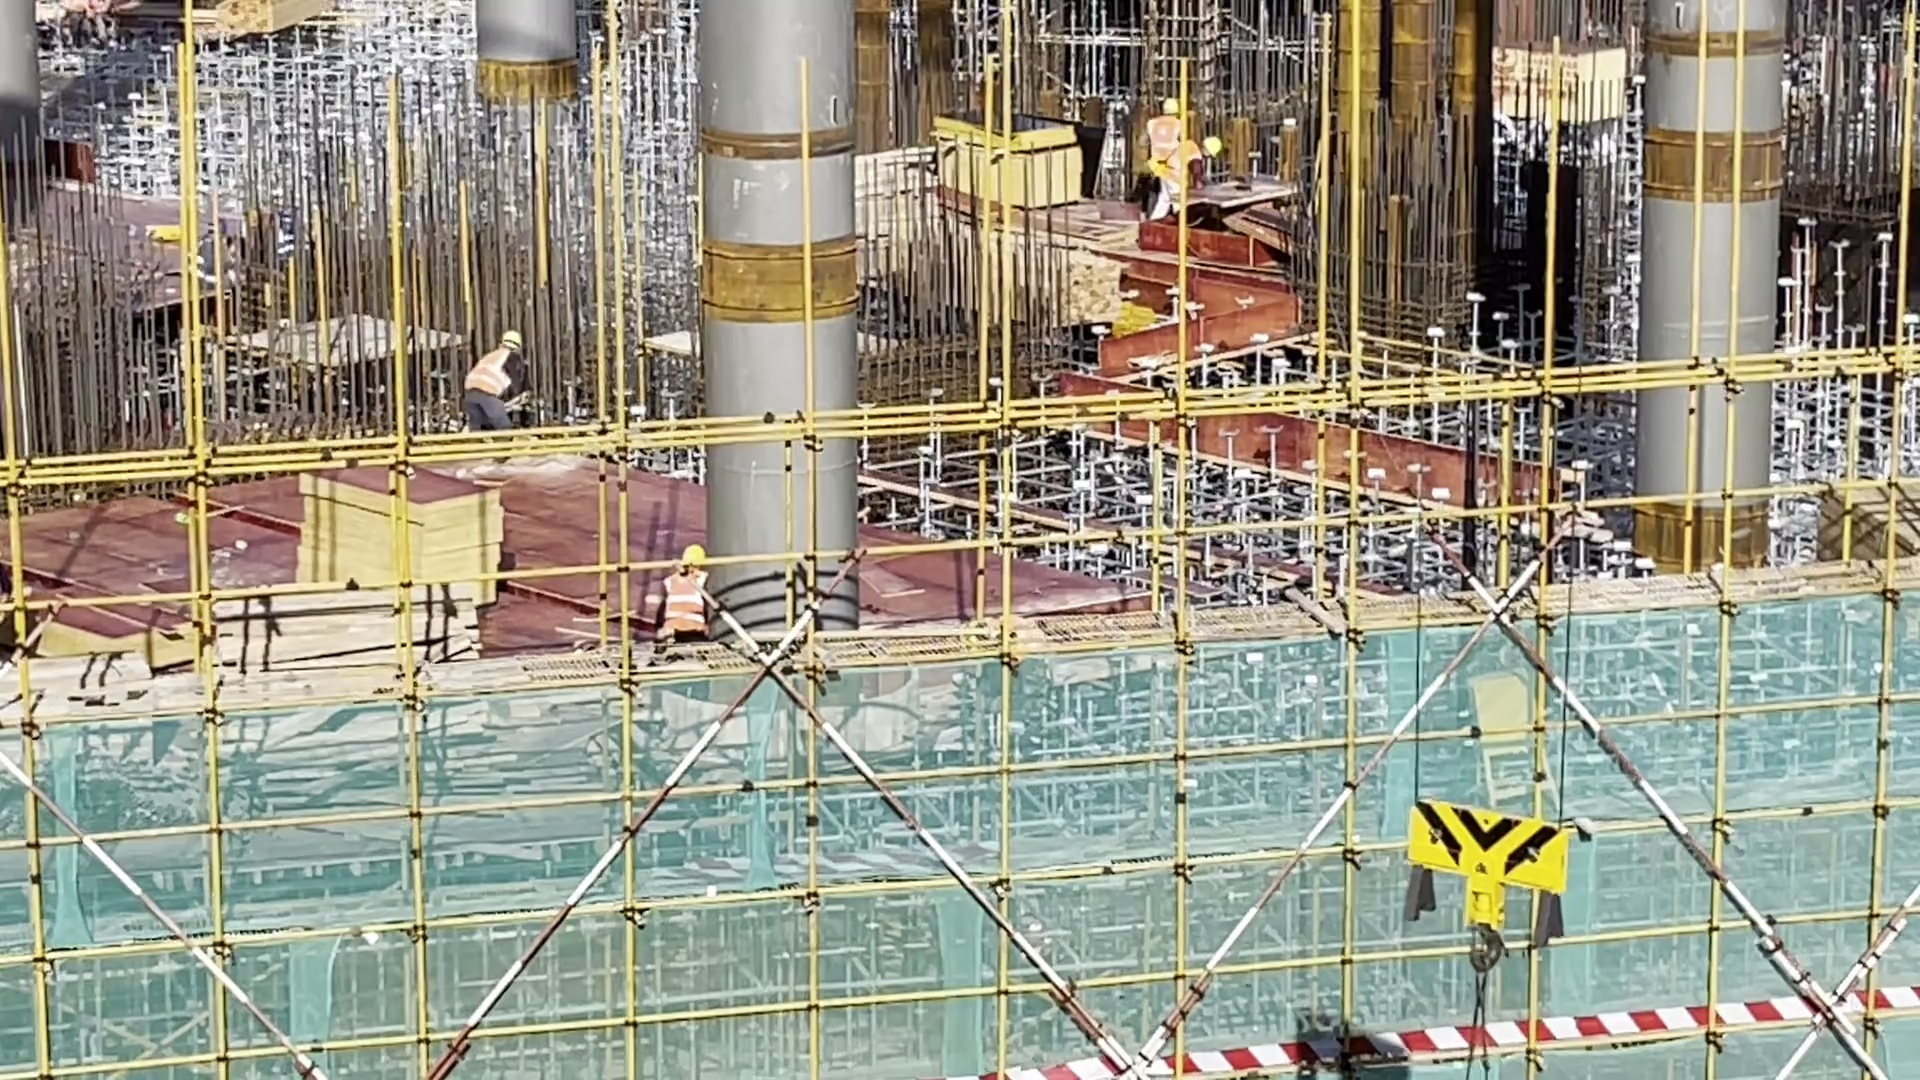helmet: (678, 545, 709, 573), (499, 329, 523, 353), (1202, 133, 1223, 162), (1160, 98, 1179, 118)
person: (466, 324, 538, 476), (1161, 119, 1236, 243), (1134, 88, 1191, 233), (643, 542, 720, 647)
vest: (470, 342, 521, 410), (666, 567, 711, 645), (1158, 142, 1201, 192), (1145, 121, 1179, 168)
